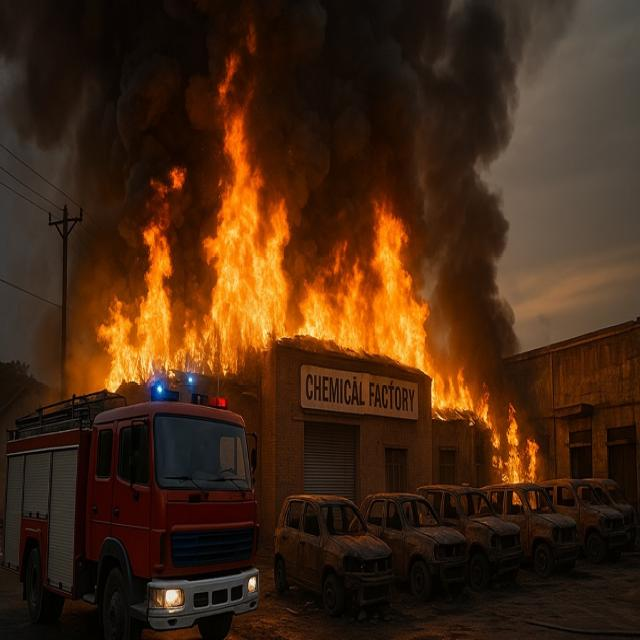fire: (202, 23, 267, 377), (134, 163, 188, 385), (370, 195, 430, 371), (252, 196, 291, 352), (297, 239, 348, 349), (95, 292, 141, 393), (174, 311, 223, 381), (341, 255, 372, 357)
